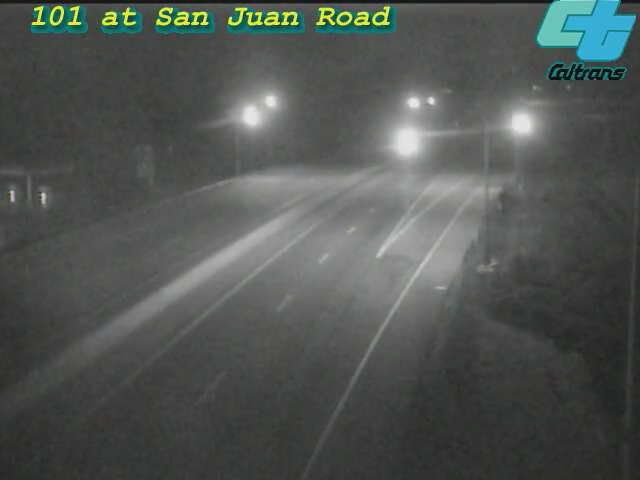vehicle: (383, 117, 433, 167), (482, 100, 532, 150)
